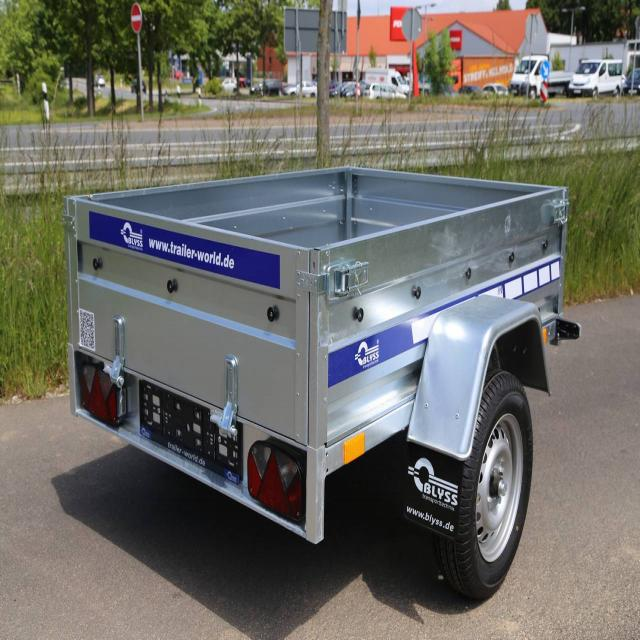trailer: (62, 165, 570, 546)
